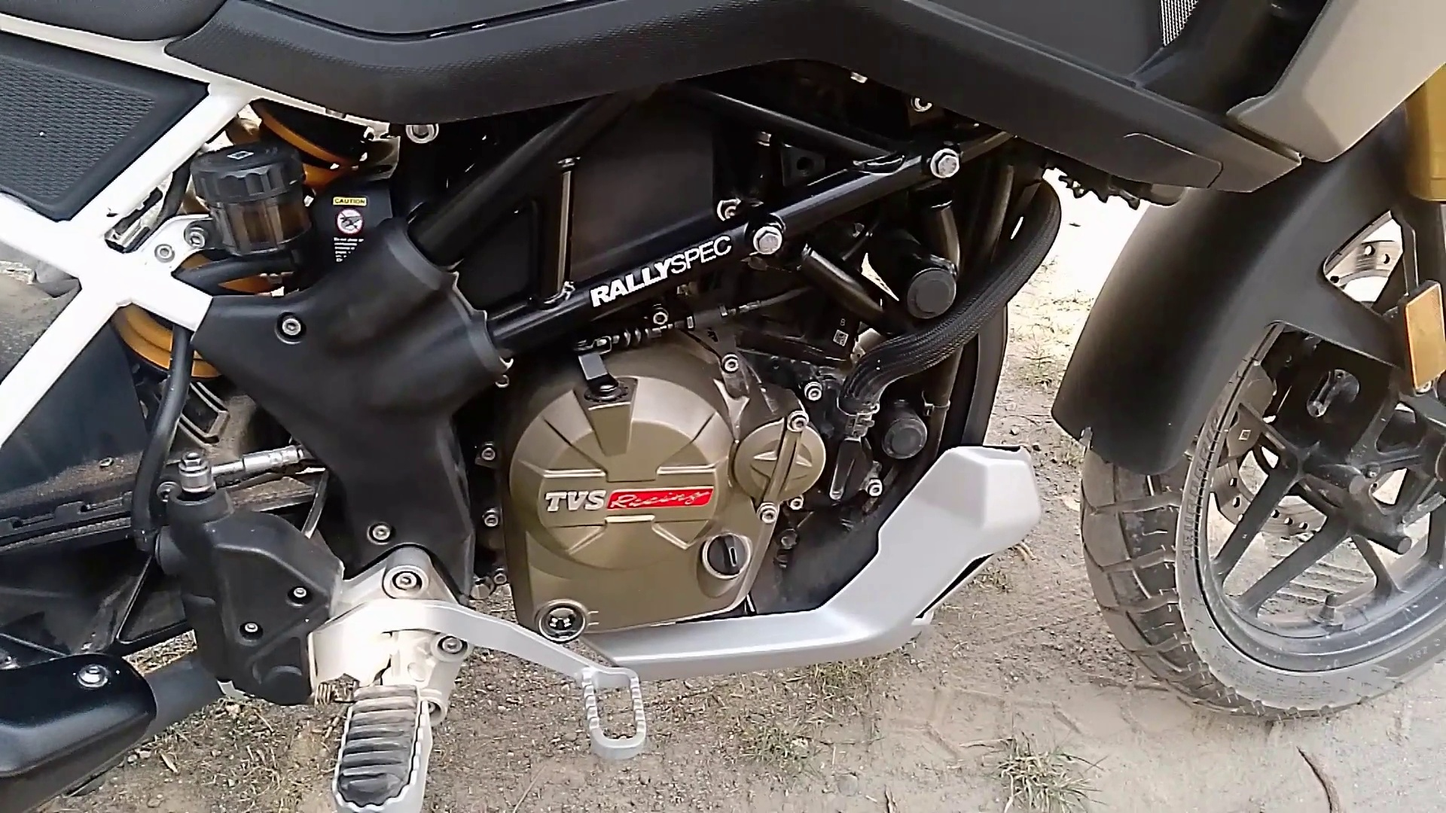engine: (497, 209, 836, 662)
oil_cap: (689, 514, 761, 589)
oil_marker: (529, 578, 604, 649)
